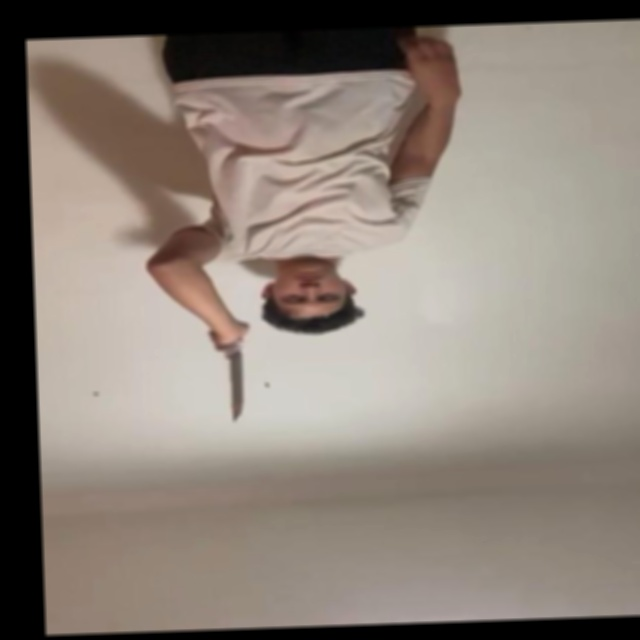Sharp-Object: (227, 347, 249, 422)
